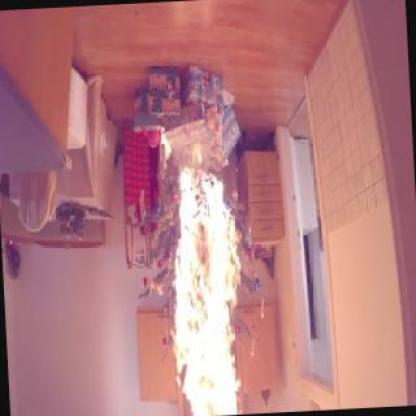Fire: (165, 164, 245, 414)
